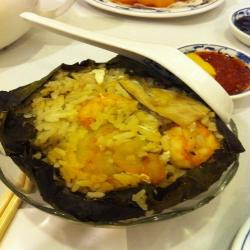ketchup: (193, 42, 250, 97)
rice: (13, 57, 227, 217)
